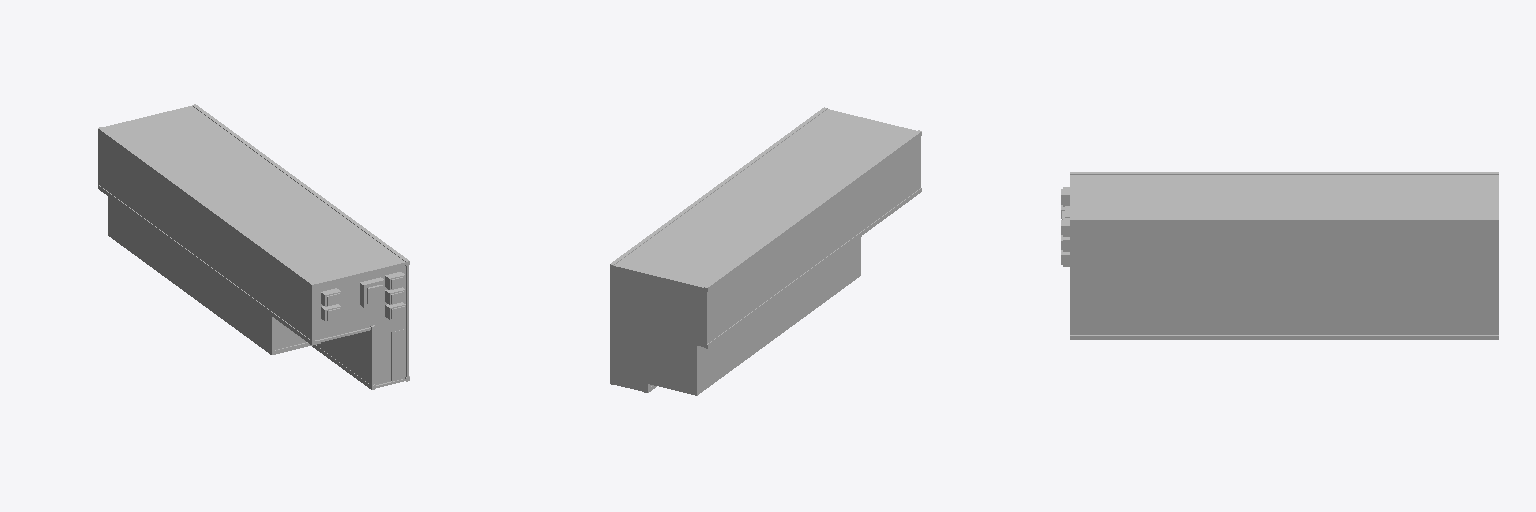
Rendered from PlayBuilding_4.obj.
The picture shows the model from 3 angles: view 1: azimuth 30°, elevation 25°; view 2: azimuth 150°, elevation 25°; view 3: azimuth 270°, elevation 25°; orthographic projection.
Visible parts, largest first — view 1: 立方体.003; view 2: 立方体.003; view 3: 立方体.003.
Part boxes in pixels (bbox=[...]): 立方体.003: bbox=[98, 104, 409, 389]; 立方体.003: bbox=[610, 107, 921, 395]; 立方体.003: bbox=[1061, 172, 1498, 339].
Bounding box in the file's own units: 34.56 × 40.36 × 134.